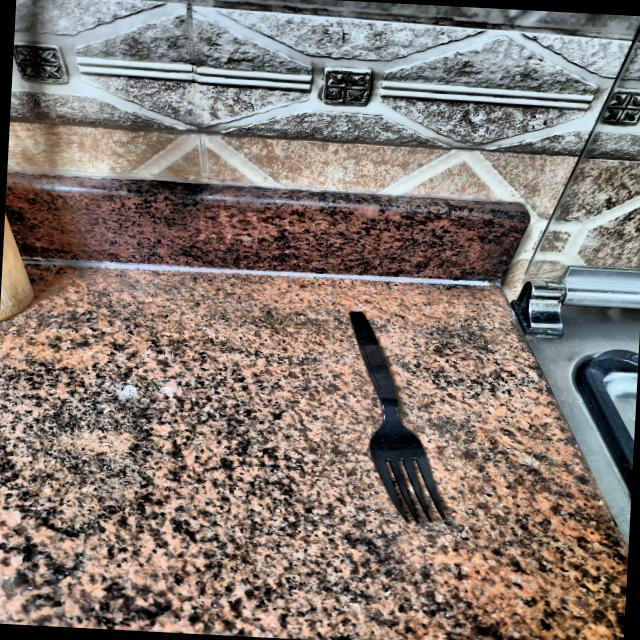plastic utensil: (328, 306, 458, 528)
